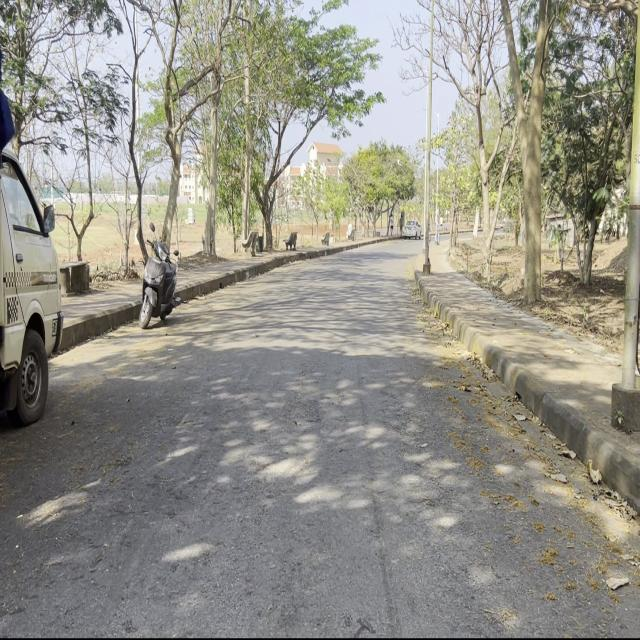Object: (1, 110, 72, 438), (139, 224, 183, 336)
Road: (3, 239, 635, 627)
